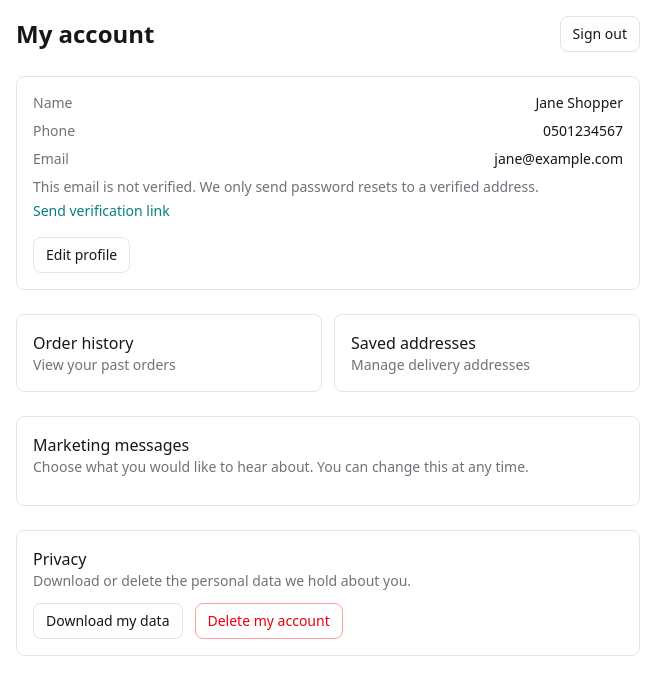
Test: AccountDashboardPage — email verification (W1) › an unverified email says so and can request the verification link
Check: the text "not verified" is shown, box left=33, top=177, right=539, bottom=196
Step 1. Click the button "Send verification link" → (101, 211), box left=33, top=201, right=170, bottom=221
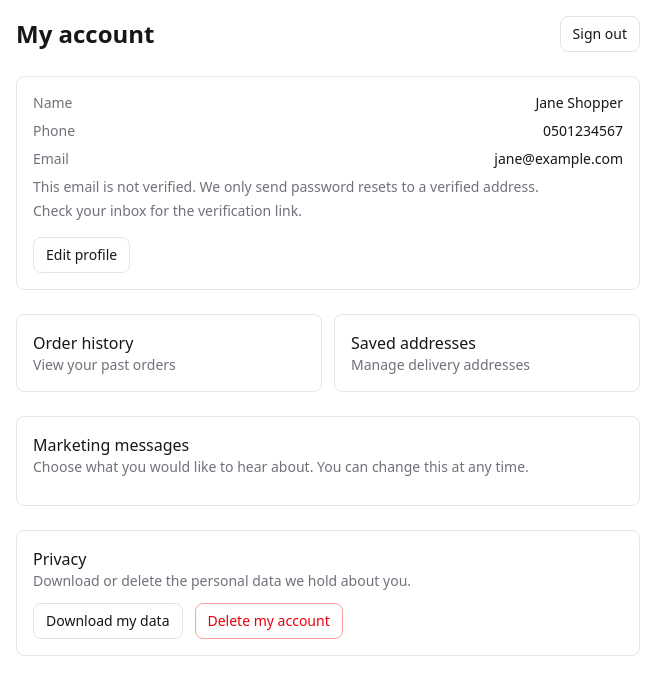
Check: the text "Check your inbox for the verification link." is shown, box left=33, top=201, right=302, bottom=220
